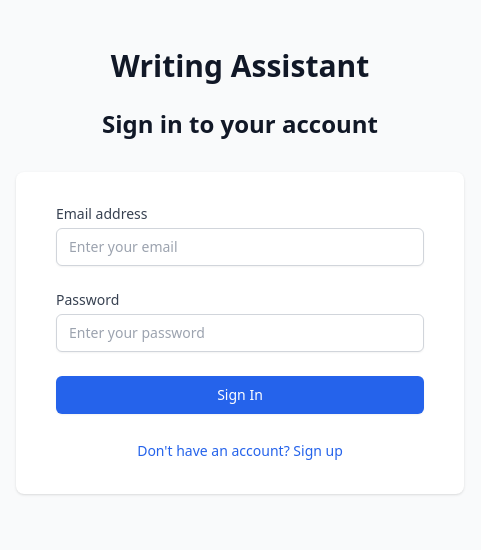
it: LoginPage › should handle sign in errors
Type "test@example.com" into the field labelled "Email address" at (240, 247), box [56,228,424,266]
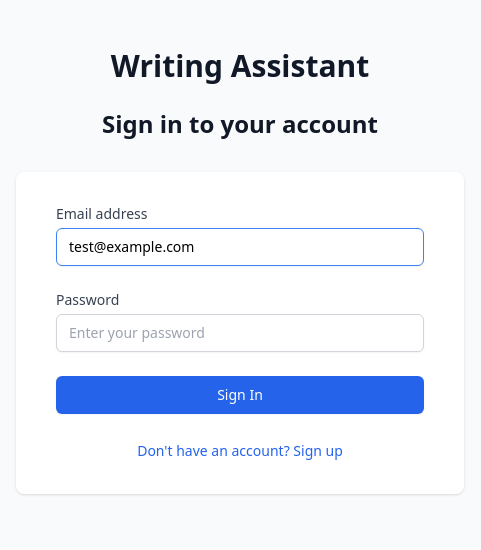
Type "wrongpassword" into the password field labelled "Password" at (240, 333), box [56,314,424,352]
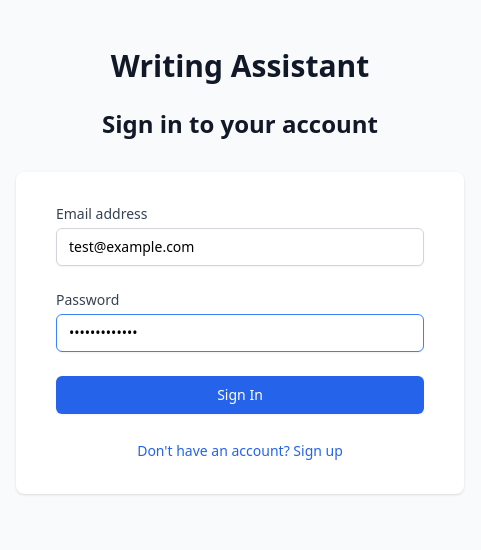
Click the button "Sign In" at (240, 395), box [56,376,424,414]
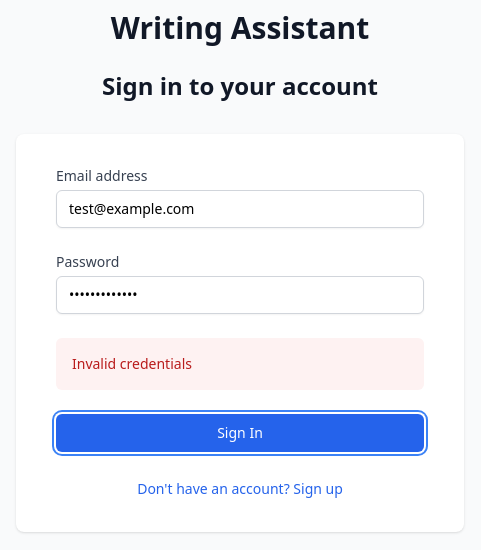
Expected: the text "Invalid credentials" is shown, [72,354,192,373]
